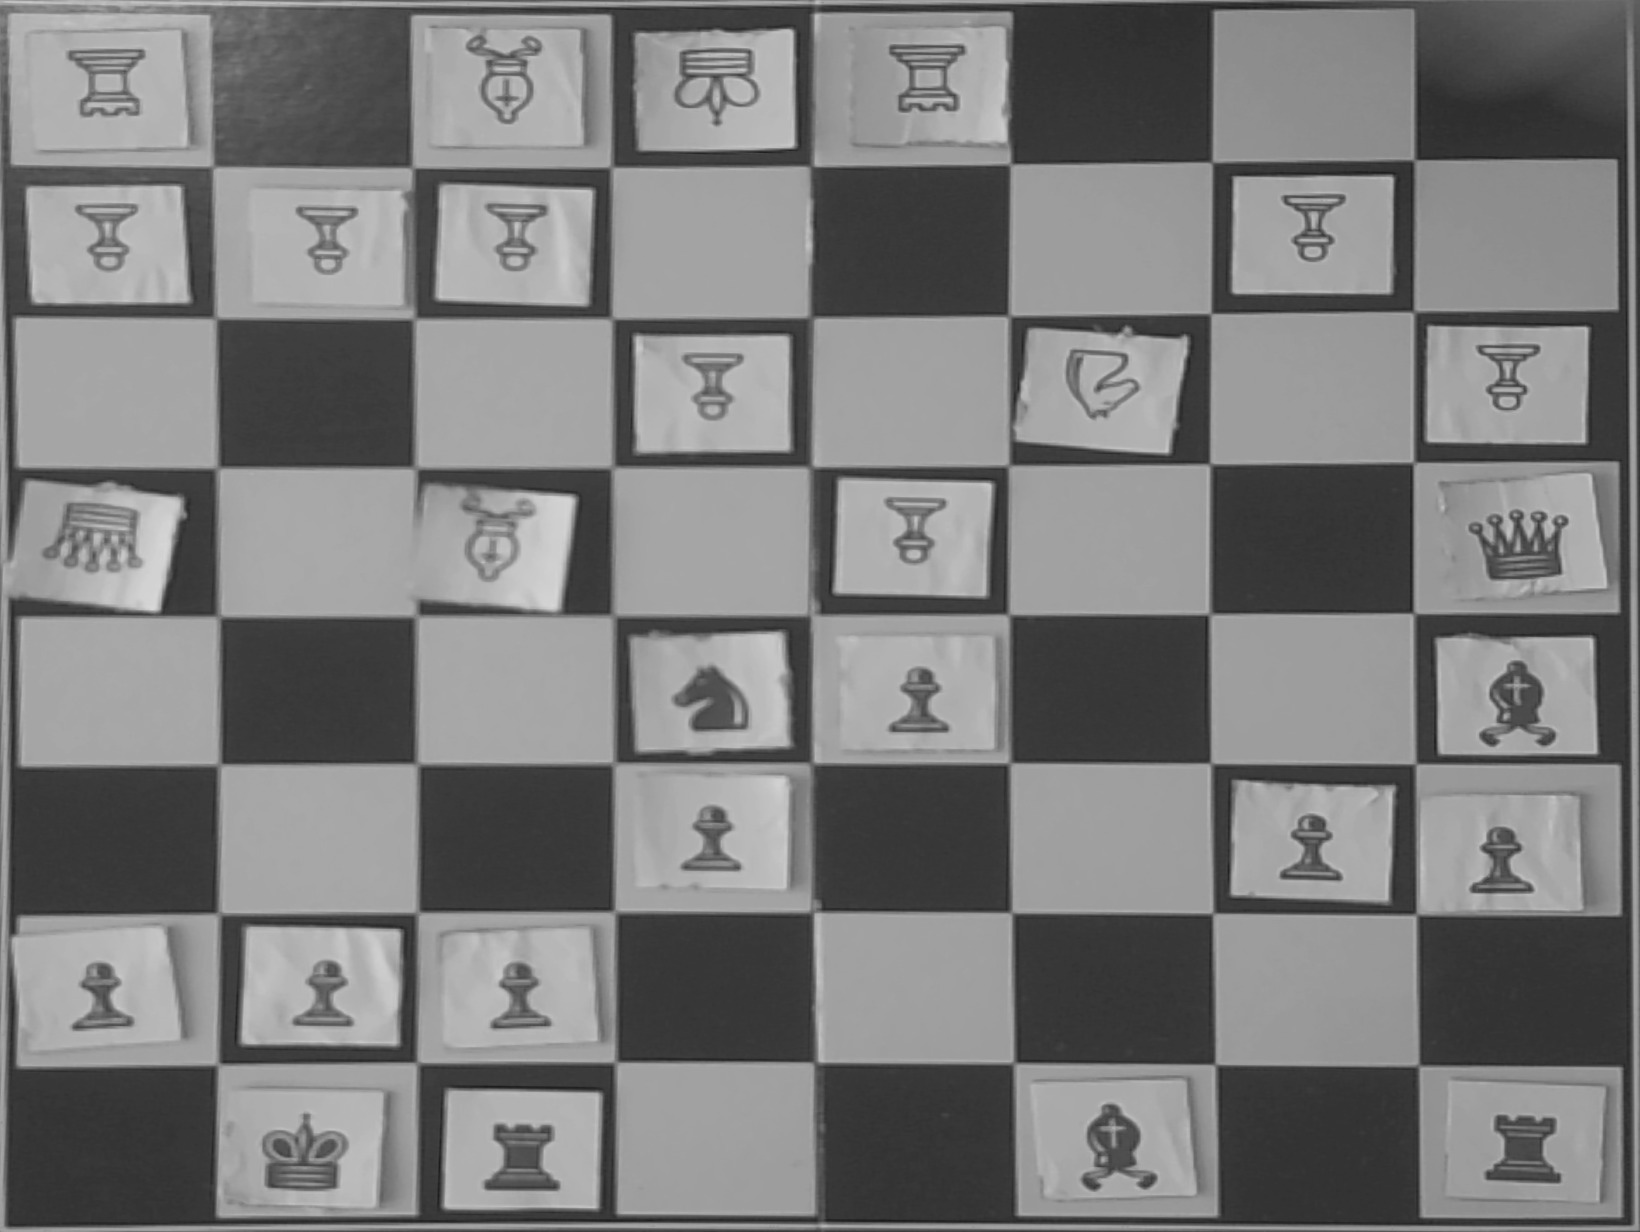b_bishop: (1442, 635, 1586, 754), (1048, 1081, 1192, 1198)
b_king: (245, 1096, 384, 1206)
b_knight: (643, 644, 775, 743)
b_pawn: (465, 937, 582, 1042), (259, 932, 375, 1037), (652, 780, 769, 884)
b_queen: (1445, 489, 1590, 590)
b_rook: (1460, 1088, 1602, 1194), (460, 1094, 602, 1200)
w_bishop: (448, 31, 577, 148), (432, 492, 560, 608)
w_king: (651, 44, 786, 144)
w_knight: (1028, 336, 1170, 445)
w_pawn: (859, 480, 986, 582), (463, 194, 589, 296), (38, 182, 164, 283)
w_queen: (26, 488, 164, 591)
w_rook: (52, 48, 170, 142), (869, 34, 988, 127)
